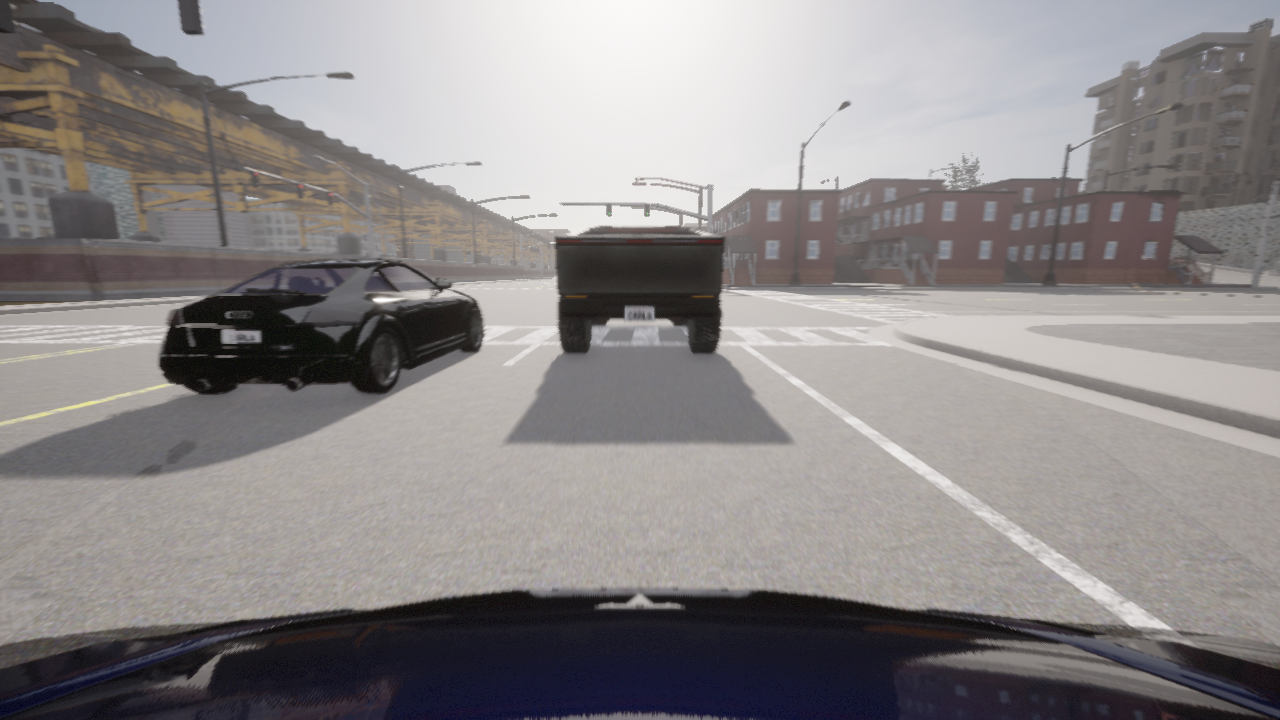cyclist: (0, 588, 1279, 719), (159, 259, 485, 393), (555, 227, 723, 353)
